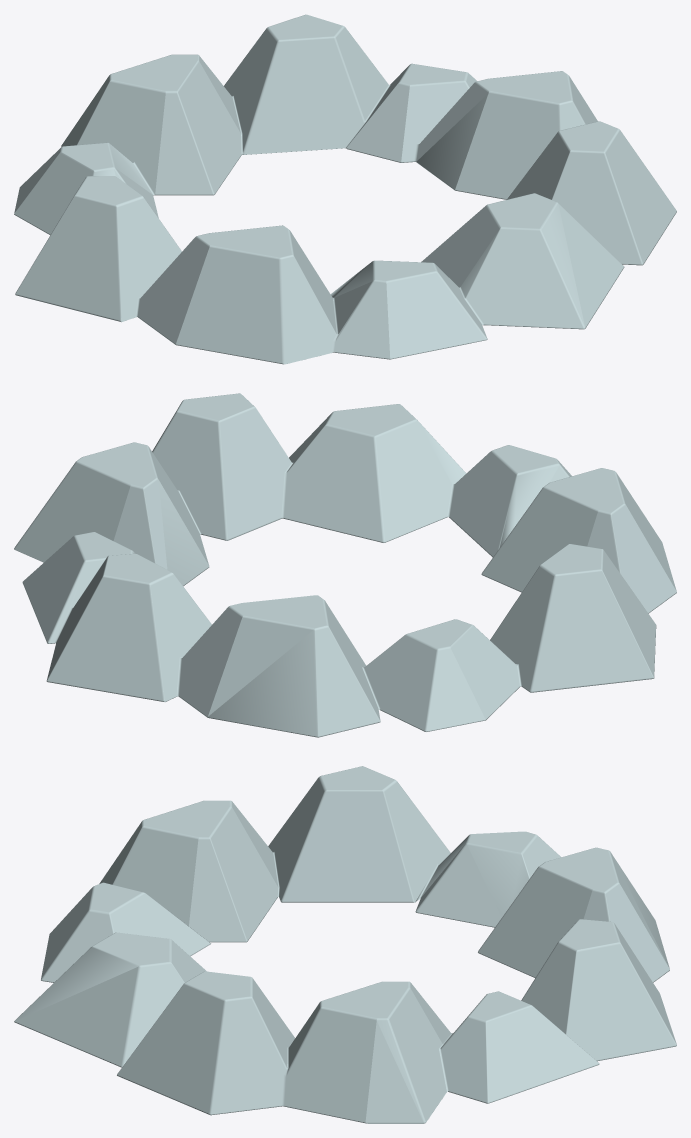
Rendered from campfire_stones.glb.
The picture shows the model from 3 angles, top to bottom: view 1: azimuth 30°, elevation 25°; view 2: azimuth 150°, elevation 25°; view 3: azimuth 270°, elevation 25°; orthographic projection. The views are drawn at different scales.
Visible parts, largest first — view 1: campfire_stones; view 2: campfire_stones; view 3: campfire_stones.
Boxes of the visible parts, x1,y1,x2,y2 form: campfire_stones: (14, 14, 676, 364); campfire_stones: (14, 393, 676, 737); campfire_stones: (14, 766, 676, 1123).
Bounding box in the file's own units: 0.5396 × 0.0778 × 0.5134.
